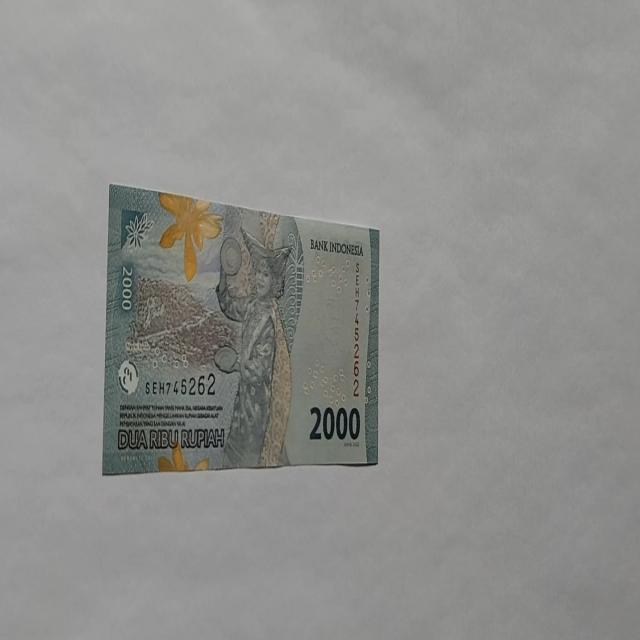dua ribu rupiah: (102, 185, 380, 474), (213, 224, 293, 468), (156, 189, 224, 283)
